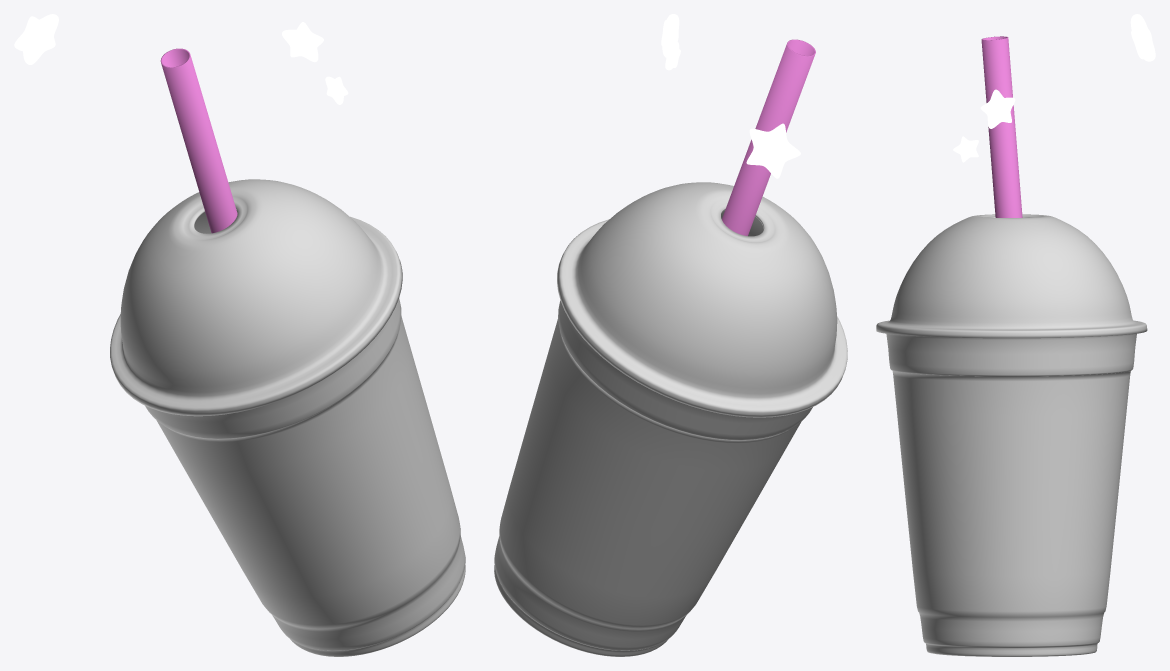
File: boba_tea.glb
3 views of the same model, side by side, from view 1: azimuth 30°, elevation 25°; view 2: azimuth 150°, elevation 25°; view 3: azimuth 270°, elevation 25° (orthographic). The views are drawn at different scales.
Visible parts, largest first — view 1: cup_5, cover_6, straw_7, Star.002_3, Star_1; view 2: cup_5, cover_6, straw_7, Star.002_3, Star_1; view 3: cup_5, cover_6, straw_7, Star_1, Star.002_3.
Part boxes in pixels (x1,y1,x2,y2): cup_5: (145, 298, 465, 656); cover_6: (110, 179, 402, 416); straw_7: (160, 48, 237, 233); Star.002_3: (14, 14, 58, 64); Star_1: (282, 22, 323, 62); cup_5: (494, 300, 812, 656); cover_6: (557, 182, 847, 417); straw_7: (722, 39, 815, 235); Star.002_3: (746, 123, 800, 178); Star_1: (661, 14, 679, 58); cup_5: (886, 333, 1136, 656); cover_6: (876, 214, 1147, 338); straw_7: (981, 36, 1022, 217); Star_1: (980, 89, 1015, 128); Star.002_3: (1130, 14, 1155, 61).
Size of what is drawn, in the model's own units: 3.17 by 5.24 by 2.39.
